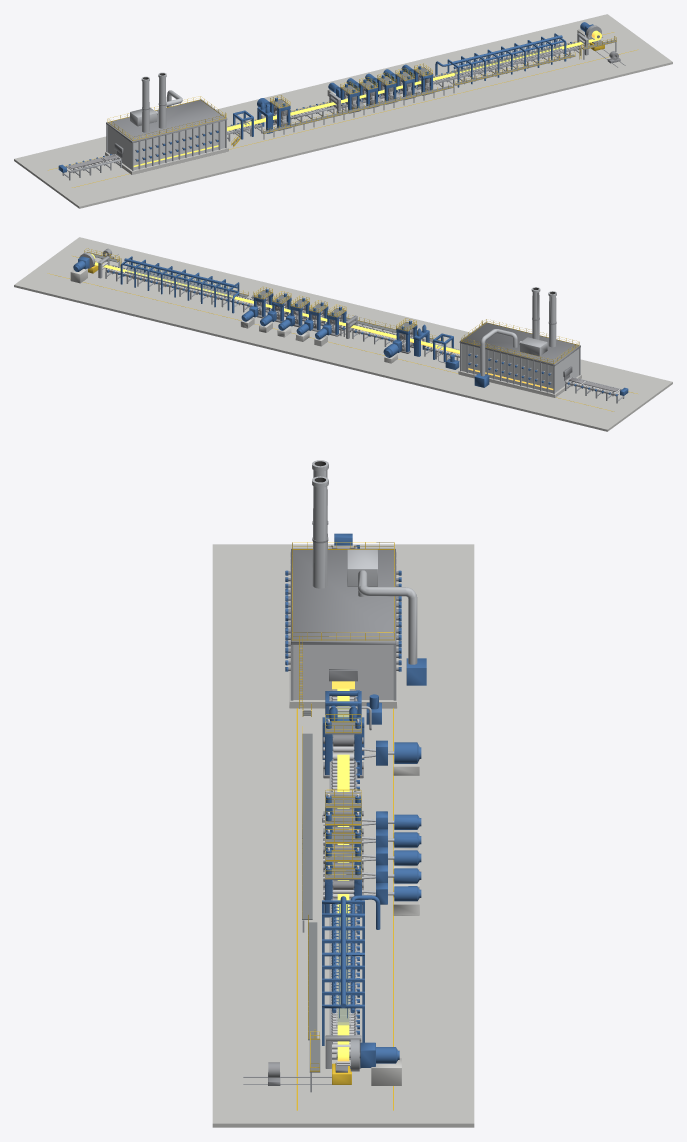
Rendered from rolling.glb.
The picture shows the model from 3 angles, top to bottom: view 1: azimuth 30°, elevation 25°; view 2: azimuth 150°, elevation 25°; view 3: azimuth 270°, elevation 25°; orthographic projection. The views are drawn at different scales.
Visible parts, largest first — view 1: Floor_Slab, R1_Reheating_Furnace, R5_Runout_Table_Cooling, R4_Finishing_Mill, R3_Roughing_Mill, Operator_Walkways, R6_Coiler, Hot_Material, Roller_Tables, R2_Descaler; view 2: Floor_Slab, R1_Reheating_Furnace, R4_Finishing_Mill, R5_Runout_Table_Cooling, R3_Roughing_Mill, R6_Coiler, Hot_Material, Roller_Tables, R2_Descaler, Operator_Walkways; view 3: Floor_Slab, R1_Reheating_Furnace, R4_Finishing_Mill, R5_Runout_Table_Cooling, R6_Coiler, R3_Roughing_Mill, Operator_Walkways, Hot_Material, R2_Descaler.
Part boxes in pixels (left/top/right/bottom): Floor_Slab: left=14, top=14, right=672, bottom=208; R1_Reheating_Furnace: left=58, top=72, right=228, bottom=180; R5_Runout_Table_Cooling: left=433, top=33, right=581, bottom=89; R4_Finishing_Mill: left=327, top=63, right=433, bottom=113; R3_Roughing_Mill: left=257, top=92, right=341, bottom=133; Operator_Walkways: left=231, top=83, right=454, bottom=146; R6_Coiler: left=577, top=22, right=625, bottom=67; Hot_Material: left=227, top=39, right=596, bottom=130; Roller_Tables: left=227, top=102, right=346, bottom=141; R2_Descaler: left=233, top=110, right=253, bottom=139; Floor_Slab: left=14, top=237, right=672, bottom=431; R1_Reheating_Furnace: left=458, top=287, right=628, bottom=403; R4_Finishing_Mill: left=240, top=286, right=346, bottom=346; R5_Runout_Table_Cooling: left=105, top=256, right=253, bottom=313; R3_Roughing_Mill: left=346, top=315, right=429, bottom=363; R6_Coiler: left=70, top=248, right=121, bottom=283; Hot_Material: left=94, top=262, right=459, bottom=353; Roller_Tables: left=340, top=325, right=459, bottom=361; R2_Descaler: left=433, top=333, right=459, bottom=369; Operator_Walkways: left=251, top=291, right=443, bottom=343; Floor_Slab: left=212, top=544, right=474, bottom=1127; R1_Reheating_Furnace: left=285, top=460, right=426, bottom=708; R4_Finishing_Mill: left=323, top=789, right=421, bottom=917; R5_Runout_Table_Cooling: left=308, top=895, right=380, bottom=1059; R6_Coiler: left=243, top=1029, right=401, bottom=1092; R3_Roughing_Mill: left=322, top=705, right=421, bottom=822; Operator_Walkways: left=302, top=703, right=312, bottom=932; Hot_Material: left=337, top=688, right=349, bottom=1044; R2_Descaler: left=325, top=691, right=381, bottom=730.
Bounding box in the file's own units: 30.26 × 4.28 × 5.78.
